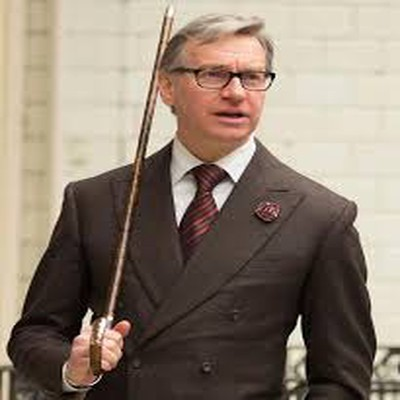eywear: (162, 68, 296, 109)
